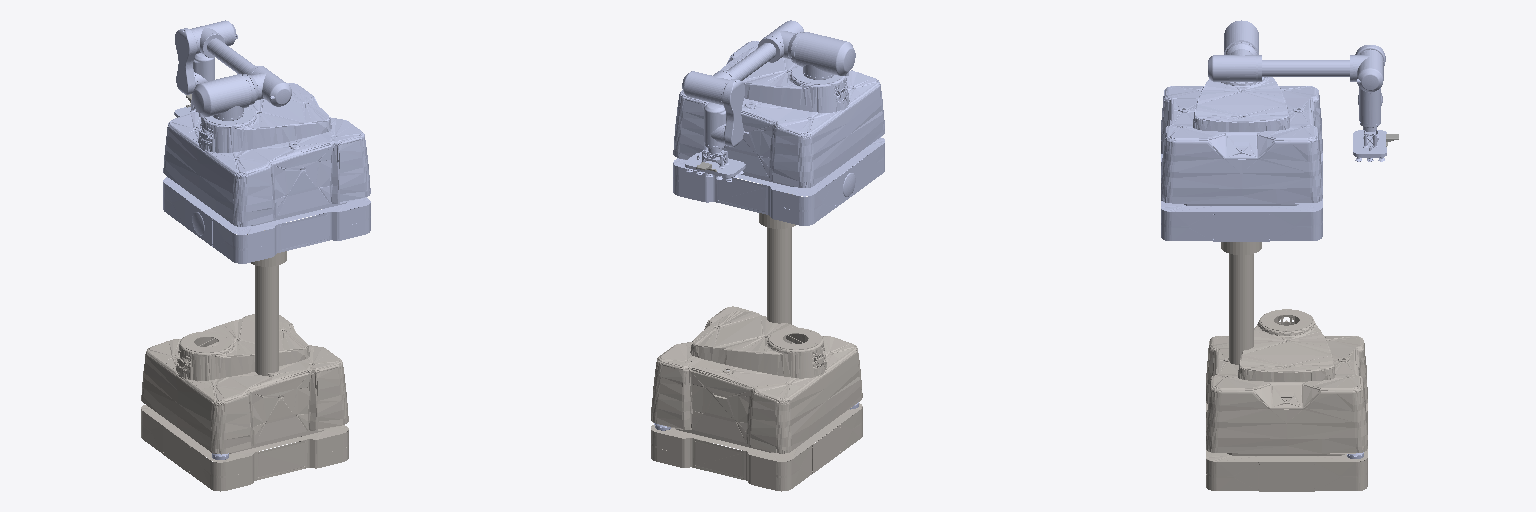
--- Facts derived from the render (not from the file) ---
The picture shows the robot from 3 angles, left to right: view 1: azimuth 30°, elevation 25°; view 2: azimuth 150°, elevation 25°; view 3: azimuth 270°, elevation 25°; orthographic projection.
Robot: awcombo — 26 links, 25 joints (14 revolute, 11 fixed); root link base_link; default pose: every joint at zero.
Links seen in each view (by area): view 1: awtube2_18kg_v2_base_link, base_link, agv_link1, awtube2_18kg_v2_link2, awtube2_18kg_v2_link4, awtube2_18kg_v2_link5, awtube2_18kg_v2_link3; view 2: base_link, awtube2_18kg_v2_base_link, agv_link1, awtube2_18kg_v2_link2, awtube2_18kg_v2_link4, awtube2_18kg_v2_link5, GRIPPER, awtube2_18kg_v2_link3; view 3: base_link, awtube2_18kg_v2_base_link, agv_link1, awtube2_18kg_v2_link4, awtube2_18kg_v2_link3, awtube2_18kg_v2_link5, GRIPPER, awtube2_18kg_v2_link2.
Link boxes in pixels (<box>): awtube2_18kg_v2_base_link: <box>163,83,370,263</box>; base_link: <box>141,314,348,491</box>; agv_link1: <box>247,230,286,375</box>; awtube2_18kg_v2_link2: <box>192,74,250,235</box>; awtube2_18kg_v2_link4: <box>190,20,263,74</box>; awtube2_18kg_v2_link5: <box>175,28,214,94</box>; awtube2_18kg_v2_link3: <box>241,67,291,107</box>; base_link: <box>651,306,862,491</box>; awtube2_18kg_v2_base_link: <box>673,41,884,225</box>; agv_link1: <box>759,184,795,343</box>; awtube2_18kg_v2_link2: <box>796,32,855,196</box>; awtube2_18kg_v2_link4: <box>682,37,781,105</box>; awtube2_18kg_v2_link5: <box>704,79,744,147</box>; GRIPPER: <box>685,148,745,181</box>; awtube2_18kg_v2_link3: <box>764,20,805,64</box>; base_link: <box>1206,309,1367,491</box>; awtube2_18kg_v2_base_link: <box>1161,77,1322,241</box>; agv_link1: <box>1221,242,1261,364</box>; awtube2_18kg_v2_link4: <box>1258,49,1383,91</box>; awtube2_18kg_v2_link3: <box>1208,40,1258,81</box>; awtube2_18kg_v2_link5: <box>1355,45,1385,124</box>; GRIPPER: <box>1353,130,1386,161</box>; awtube2_18kg_v2_link2: <box>1224,20,1258,91</box>.
Bounding box of the posed robot: 0.8607 × 1.25 × 2.37 m (x, y, z).
24 mesh visuals loaded from 25 distinct referenced files (23 binary STL); not drawn: 1 (reference not matched to a file when rendering).

robot.urdf — awcombo:
<?xml version="1.0"?>
<!-- =================================================================================== -->
<!-- |    This document was autogenerated by xacro from awcombo.xacro                  | -->
<!-- |    EDITING THIS FILE BY HAND IS NOT RECOMMENDED                                 | -->
<!-- =================================================================================== -->
<robot name="awcombo">
  <material name="aluminum">
    <color rgba="0.5 0.5 0.5 1" />
  </material>
  <material name="plastic">
    <color rgba="0.1 0.1 0.1 1" />
  </material>

  <gazebo reference="lidar_1_link">
    <sensor name="lidar_1_sensor" type="ray">
      <always_on>true</always_on>
      <pose>0 0 0 0 0 0</pose>
      <visualize>false</visualize>
      <update_rate>40</update_rate>
      <ray>
        <scan>
          <horizontal>
            <samples>720</samples>
            <resolution>1</resolution>
            <min_angle>-1.48</min_angle>
            <max_angle>1.48</max_angle>
          </horizontal>
        </scan>
        <range>
          <min>0.10</min>
          <max>30.0</max>
          <resolution>0.05</resolution>
        </range>
        <noise>
          <type>gaussian</type>
          <!-- Noise parameters based on published spec for Hokuyo laser
                   achieving "+-30mm" accuracy at range < 10m.  A mean of 0.0m and
                   stddev of 0.01m will put 99.7% of samples within 0.03m of the true
                   reading. -->
          <mean>0.0</mean>
          <stddev>0.01</stddev>
        </noise>
      </ray>
      <plugin filename="libgazebo_ros_ray_sensor.so" name="lidar_1">
        <ros>
          <!-- <namespace>   </namespace> -->
          <argument>~/out:=scan</argument>
        </ros>
        <!-- Set output to sensor_msgs/LaserScan to get same output type as gazebo_ros_laser -->
        <output_type>sensor_msgs/LaserScan</output_type>
        <frame_name>lidar_1_link</frame_name>
      </plugin>
    </sensor>
  </gazebo>

  <gazebo reference="lidar_2_link">
    <sensor name="lidar_2_sensor" type="ray">
      <pose>0 0 0 0 0 0</pose>
      <visualize>false</visualize>
      <update_rate>40</update_rate>
      <ray>
        <scan>
          <horizontal>
            <samples>720</samples>
            <resolution>1</resolution>
            <min_angle>-1.48</min_angle>
            <max_angle>1.48</max_angle>
          </horizontal>
        </scan>
        <range>
          <min>0.10</min>
          <max>30.0</max>
          <resolution>0.05</resolution>
        </range>
        <noise>
          <type>gaussian</type>
          <!-- Noise parameters based on published spec for Hokuyo laser
                   achieving "+-30mm" accuracy at range < 10m.  A mean of 0.0m and
                   stddev of 0.01m will put 99.7% of samples within 0.03m of the true
                   reading. -->
          <mean>0.0</mean>
          <stddev>0.01</stddev>
        </noise>
      </ray>
      <plugin filename="libgazebo_ros_ray_sensor.so" name="lidar_2">
        <ros>
          <!-- <namespace> </namespace> -->
          <argument>~/out:=scan2</argument>
        </ros>
        <!-- Set output to sensor_msgs/LaserScan to get same output type as gazebo_ros_laser -->
        <output_type>sensor_msgs/LaserScan</output_type>
        <frame_name>lidar_2_link</frame_name>
      </plugin>
    </sensor>
  </gazebo>

  <gazebo>
    <plugin name="object_controller" filename="libgazebo_ros_planar_move.so">

      <commandTopic>cmd_vel</commandTopic>
      <odometryTopic>odom</odometryTopic>
      <robotNamespace>
        <remapping>/tf:=tf</remapping>
      </robotNamespace>
      <ros>
        <remapping>/tf:=tf</remapping>
      </ros>

      <!-- Set control loop update rate -->
      <odometryRate>100</odometryRate>
      <!-- Set odom publish rate -->
      <publish_rate>100</publish_rate>

      <!-- Set if odom required -->
      <publish_odom>true</publish_odom>
      <publish_odom_tf>true</publish_odom_tf>

      <!-- Frame IDs -->
      <odometryFrame>odom</odometryFrame>
      <robotBaseFrame>base_link</robotBaseFrame>

      <!-- Set odom covariance -->
      <covariance_x>0.0001</covariance_x>
      <covariance_y>0.0001</covariance_y>
      <covariance_yaw>0.0001</covariance_yaw>

    </plugin>
  </gazebo>

  <!-- camera -->
  <gazebo reference="camera_link">

    <sensor type="depth" name="camera_link">

      <always_on>1</always_on>

      <update_rate>15</update_rate>

      <camera name="camera_link"> ... <distortion>
          <k1>0.1</k1>
          <k2>0.2</k2>
          <k3>0.3</k3>
          <p1>0.4</p1>
          <p2>0.5</p2>
          <center>0.5 0.5</center>
        </distortion>
      </camera>

      <plugin name="camera_link" filename="libgazebo_ros_camera.so">

        <ros>
        </ros>

        <camera_name> </camera_name>

        <frame_name> </frame_name>

        <hack_baseline>0.07</hack_baseline>


        <min_depth>0.001</min_depth>
        <max_depth>300.0</max_depth>
      </plugin>
    </sensor>
  </gazebo>

  <link name="base_link">
    <inertial>
      <origin rpy="0 0 0" xyz="0.00020197 0.0019401 0.43265" />
      <mass value="95.371" />
      <inertia ixx="7.048" ixy="0.0020566" ixz="-0.00016602" iyy="7.0414" iyz="-0.14914"
        izz="12.614" />
    </inertial>
    <visual>
      <origin rpy="0 0 0" xyz="0 0 0" />
      <geometry>
        <mesh
          filename="package://amr_combo_v2/meshes/base_link.STL" />
      </geometry>
      <material name="">
        <color rgba="0.77647 0.75686 0.73725 1" />
      </material>
    </visual>
    <collision>
      <origin rpy="0 0 0" xyz="0 0 0" />
      <geometry>
        <mesh
          filename="package://amr_combo_v2/meshes/base_link.STL" />
      </geometry>
    </collision>
  </link>
  <link name="base_footprint">
    <inertial>
      <origin rpy="0 0 0" xyz="-0.00097233 0.00030419 0.2973" />
      <mass value="27.996" />
      <inertia ixx="1.2308" ixy="-0.00018417" ixz="1.2244E-06" iyy="1.1622" iyz="9.0657E-07"
        izz="2.3922" />
    </inertial>
    <visual>
      <origin rpy="0 0 0" xyz="0 0 0" />
      <geometry>
        <mesh
          filename="package://amr_combo_v2/meshes/base_footprint.STL" />
      </geometry>
      <material name="">
        <color rgba="0.86667 0.86667 0.8902 1" />
      </material>
    </visual>
    <collision>
      <origin rpy="0 0 0" xyz="0 0 0" />
      <geometry>
        <mesh
          filename="package://amr_combo_v2/meshes/base_footprint.STL" />
      </geometry>
    </collision>
  </link>
  <joint name="base_footprint_joint" type="fixed">
    <origin rpy="0 0 0" xyz="0 0 0" />
    <parent link="base_link" />
    <child link="base_footprint" />
    <axis xyz="0 0 0" />
  </joint>
  <link name="mpo_700_caster_back_left_link">
    <inertial>
      <origin rpy="0 0 0" xyz="-5.5511E-17 0.0079242 -0.027057" />
      <mass value="17.529" />
      <inertia ixx="0.15365" ixy="4.3519E-19" ixz="2.079E-18" iyy="0.15493" iyz="0.010987"
        izz="0.025283" />
    </inertial>
    <visual>
      <origin rpy="0 0 0" xyz="0 0 0" />
      <geometry>
        <mesh
          filename="package://amr_combo_v2/meshes/mpo_700_caster_back_left_link.STL" />
      </geometry>
      <material name="">
        <color rgba="0.77647 0.75686 0.73725 1" />
      </material>
    </visual>
    <collision>
      <origin rpy="0 0 0" xyz="0 0 0" />
      <geometry>
        <mesh
          filename="package://amr_combo_v2/meshes/mpo_700_caster_back_left_link.STL" />
      </geometry>
    </collision>
  </link>
  <joint name="mpo_700_caster_back_left_joint" type="revolute">
    <origin rpy="0 0 0" xyz="-0.26 0.26 0.22" />
    <parent link="base_footprint" />
    <child link="mpo_700_caster_back_left_link" />
    <axis xyz="0 0 1" />
    <limit effort="1000" lower="-1E+16" upper="1E+16" velocity="6.5" />
    <dynamics damping="30" friction="110" />
  </joint>
  <link name="mpo_700_wheel_back_left_link">
    <inertial>
      <origin rpy="0 0 0" xyz="0 -0.0003764 0" />
      <mass value="5.9448" />
      <inertia ixx="0.012415" ixy="-1.6832E-19" ixz="-6.1901E-19" iyy="0.02381" iyz="-1.5948E-18"
        izz="0.012415" />
    </inertial>
    <visual>
      <origin rpy="0 0 0" xyz="0 0 0" />
      <geometry>
        <mesh
          filename="package://amr_combo_v2/meshes/mpo_700_wheel_back_left_link.STL" />
      </geometry>
      <material name="">
        <color rgba="0.77647 0.75686 0.73725 1" />
      </material>
    </visual>
    <collision>
      <origin rpy="0 0 0" xyz="0 0 0" />
      <geometry>
        <mesh
          filename="package://amr_combo_v2/meshes/mpo_700_wheel_back_left_link.STL" />
      </geometry>
    </collision>
  </link>
  <joint name="mpo_700_wheel_back_left_joint" type="revolute">
    <origin rpy="0 0 3.1416" xyz="0 -0.0453 -0.122" />
    <parent link="mpo_700_caster_back_left_link" />
    <child link="mpo_700_wheel_back_left_link" />
    <axis xyz="0 1 0" />
    <limit effort="1000" lower="-1E+16" upper="1E+16" velocity="20.5" />
    <dynamics damping="30" friction="110" />
  </joint>
  <link name="mpo_700_caster_back_right_link">
    <inertial>
      <origin rpy="0 0 0" xyz="0 0.0079242 -0.027057" />
      <mass value="17.529" />
      <inertia ixx="0.15365" ixy="6.5122E-20" ixz="1.2755E-18" iyy="0.15493" iyz="0.010987"
        izz="0.025283" />
    </inertial>
    <visual>
      <origin rpy="0 0 0" xyz="0 0 0" />
      <geometry>
        <mesh
          filename="package://amr_combo_v2/meshes/mpo_700_caster_back_right_link.STL" />
      </geometry>
      <material name="">
        <color rgba="0.77647 0.75686 0.73725 1" />
      </material>
    </visual>
    <collision>
      <origin rpy="0 0 0" xyz="0 0 0" />
      <geometry>
        <mesh
          filename="package://amr_combo_v2/meshes/mpo_700_caster_back_right_link.STL" />
      </geometry>
    </collision>
  </link>
  <joint name="mpo_700_caster_back_right_joint" type="revolute">
    <origin rpy="0 0 0" xyz="-0.26 -0.26 0.22" />
    <parent link="base_footprint" />
    <child link="mpo_700_caster_back_right_link" />
    <axis xyz="0 0 1" />
    <limit effort="1000" lower="-1E+16" upper="1E+16" velocity="6.5" />
    <dynamics damping="30" friction="110" />
  </joint>
  <link name="mpo_700_wheel_back_right_link">
    <inertial>
      <origin rpy="0 0 0" xyz="0 -0.0003764 -2.7756E-17" />
      <mass value="5.9448" />
      <inertia ixx="0.012415" ixy="-1.0996E-19" ixz="-6.1905E-19" iyy="0.02381" iyz="1.0833E-19"
        izz="0.012415" />
    </inertial>
    <visual>
      <origin rpy="0 0 0" xyz="0 0 0" />
      <geometry>
        <mesh
          filename="package://amr_combo_v2/meshes/mpo_700_wheel_back_right_link.STL" />
      </geometry>
      <material name="">
        <color rgba="0.77647 0.75686 0.73725 1" />
      </material>
    </visual>
    <collision>
      <origin rpy="0 0 0" xyz="0 0 0" />
      <geometry>
        <mesh
          filename="package://amr_combo_v2/meshes/mpo_700_wheel_back_right_link.STL" />
      </geometry>
    </collision>
  </link>
  <joint name="mpo_700_wheel_back_right_joint" type="revolute">
    <origin rpy="0 0 3.1416" xyz="0 -0.0453 -0.122" />
    <parent link="mpo_700_caster_back_right_link" />
    <child link="mpo_700_wheel_back_right_link" />
    <axis xyz="0 -1 0" />
    <limit effort="1000" lower="-1E+16" upper="1E+16" velocity="20.5" />
    <dynamics damping="30" friction="110" />
  </joint>
  <link name="mpo_700_caster_front_left_link">
    <inertial>
      <origin rpy="0 0 0" xyz="0 0.0079242 -0.027057" />
      <mass value="17.529" />
      <inertia ixx="0.15365" ixy="7.7938E-19" ixz="-1.1941E-18" iyy="0.15493" iyz="0.010987"
        izz="0.025283" />
    </inertial>
    <visual>
      <origin rpy="0 0 0" xyz="0 0 0" />
      <geometry>
        <mesh
          filename="package://amr_combo_v2/meshes/mpo_700_caster_front_left_link.STL" />
      </geometry>
      <material name="">
        <color rgba="0.77647 0.75686 0.73725 1" />
      </material>
    </visual>
    <collision>
      <origin rpy="0 0 0" xyz="0 0 0" />
      <geometry>
        <mesh
          filename="package://amr_combo_v2/meshes/mpo_700_caster_front_left_link.STL" />
      </geometry>
    </collision>
  </link>
  <joint name="mpo_700_caster_front_left_joint" type="revolute">
    <origin rpy="0 0 0" xyz="0.26 0.26 0.22" />
    <parent link="base_footprint" />
    <child link="mpo_700_caster_front_left_link" />
    <axis xyz="0 0 1" />
    <limit effort="1000" lower="-1E+16" upper="1E+16" velocity="6.5" />
    <dynamics damping="30" friction="110" />
  </joint>
  <link name="mpo_700_wheel_front_left_link">
    <inertial>
      <origin rpy="0 0 0" xyz="0 -0.0003764 1.3878E-17" />
      <mass value="5.9448" />
      <inertia ixx="0.012415" ixy="-3.9576E-19" ixz="-2.0189E-19" iyy="0.02381" iyz="-1.7678E-18"
        izz="0.012415" />
    </inertial>
    <visual>
      <origin rpy="0 0 0" xyz="0 0 0" />
      <geometry>
        <mesh
          filename="package://amr_combo_v2/meshes/mpo_700_wheel_front_left_link.STL" />
      </geometry>
      <material name="">
        <color rgba="0.77647 0.75686 0.73725 1" />
      </material>
    </visual>
    <collision>
      <origin rpy="0 0 0" xyz="0 0 0" />
      <geometry>
        <mesh
          filename="package://amr_combo_v2/meshes/mpo_700_wheel_front_left_link.STL" />
      </geometry>
    </collision>
  </link>
  <joint name="mpo_700_wheel_front_left_joint" type="revolute">
    <origin rpy="0 0 3.1416" xyz="0 -0.0453 -0.122" />
    <parent link="mpo_700_caster_front_left_link" />
    <child link="mpo_700_wheel_front_left_link" />
    <axis xyz="0 1 0" />
    <limit effort="10000" lower="-1E+16" upper="1E+16" velocity="20.5" />
    <dynamics damping="30" friction="110" />
  </joint>
  <link name="mpo_700_caster_front_right_link">
    <inertial>
      <origin rpy="0 0 0" xyz="0 0.0079242 -0.027057" />
      <mass value="17.529" />
      <inertia ixx="0.15365" ixy="4.224E-19" ixz="-7.1236E-19" iyy="0.15493" iyz="0.010987"
        izz="0.025283" />
    </inertial>
    <visual>
      <origin rpy="0 0 0" xyz="0 0 0" />
      <geometry>
        <mesh
          filename="package://amr_combo_v2/meshes/mpo_700_caster_front_right_link.STL" />
      </geometry>
      <material name="">
        <color rgba="0.77647 0.75686 0.73725 1" />
      </material>
    </visual>
    <collision>
      <origin rpy="0 0 0" xyz="0 0 0" />
      <geometry>
        <mesh
          filename="package://amr_combo_v2/meshes/mpo_700_caster_front_right_link.STL" />
      </geometry>
    </collision>
  </link>
  <joint name="mpo_700_caster_front_right_joint" type="revolute">
    <origin rpy="0 0 0" xyz="0.26 -0.26 0.22" />
    <parent link="base_footprint" />
    <child link="mpo_700_caster_front_right_link" />
    <axis xyz="0 0 1" />
    <limit effort="1000" lower="-1E+16" upper="1E+16" velocity="6.5" />
    <dynamics damping="30" friction="110" />
  </joint>
  <link name="mpo_700_wheel_front_right_link">
    <inertial>
      <origin rpy="0 0 0" xyz="0 -0.0003764 -2.7756E-17" />
      <mass value="5.9448" />
      <inertia ixx="0.012415" ixy="-1.2506E-19" ixz="-2.0193E-19" iyy="0.02381" iyz="-6.4764E-20"
        izz="0.012415" />
    </inertial>
    <visual>
      <origin rpy="0 0 0" xyz="0 0 0" />
      <geometry>
        <mesh
          filename="package://amr_combo_v2/meshes/mpo_700_wheel_front_right_link.STL" />
      </geometry>
      <material name="">
        <color rgba="0.77647 0.75686 0.73725 1" />
      </material>
    </visual>
    <collision>
      <origin rpy="0 0 0" xyz="0 0 0" />
      <geometry>
        <mesh
          filename="package://amr_combo_v2/meshes/mpo_700_wheel_front_right_link.STL" />
      </geometry>
    </collision>
  </link>
  <joint name="mpo_700_wheel_front_right_joint" type="revolute">
    <origin rpy="0 0 -3.1416" xyz="0 -0.0453 -0.122" />
    <parent link="mpo_700_caster_front_right_link" />
    <child link="mpo_700_wheel_front_right_link" />
    <axis xyz="0 -1 0" />
    <limit effort="1000" lower="-1E+16" upper="1E+16" velocity="20.5" />
    <dynamics damping="30" friction="110" />
  </joint>
  <link name="lidar_1_link">
    <inertial>
      <origin rpy="0 0 0" xyz="-1.0182 1.7996E-06 0.01114" />
      <mass value="0.28899" />
      <inertia ixx="0.00020547" ixy="-1.0914E-08" ixz="1.1185E-08" iyy="0.00020546" iyz="1.6374E-08"
        izz="0.0002783" />
    </inertial>
    <visual>
      <origin rpy="0 0 0" xyz="0 0 0" />
      <geometry>
        <mesh
          filename="package://amr_combo_v2/meshes/lidar_1_link.STL" />
      </geometry>
      <material name="">
        <color rgba="0.79216 0.81961 0.93333 1" />
      </material>
    </visual>
    <collision>
      <origin rpy="0 0 0" xyz="0 0 0" />
      <geometry>
        <mesh
          filename="package://amr_combo_v2/meshes/lidar_1_link.STL" />
      </geometry>
    </collision>
  </link>
  <joint name="lidar_1_link" type="fixed">
    <origin rpy="3.1416 0 -2.3562" xyz="-0.36 -0.36 0.2465" />
    <parent link="base_link" />
    <child link="lidar_1_link" />
    <axis xyz="0 0 0" />
  </joint>
  <link name="lidar_2_link">
    <inertial>
      <origin rpy="0 0 0" xyz="-1.0182 -1.6443E-06 0.01114" />
      <mass value="0.28899" />
      <inertia ixx="0.00020547" ixy="-1.1651E-08" ixz="-1.3037E-08" iyy="0.00020547"
        iyz="-1.4942E-08" izz="0.0002783" />
    </inertial>
    <visual>
      <origin rpy="0 0 0" xyz="0 0 0" />
      <geometry>
        <mesh
          filename="package://amr_combo_v2/meshes/lidar_2_link.STL" />
      </geometry>
      <material name="">
        <color rgba="0.79216 0.81961 0.93333 1" />
      </material>
    </visual>
    <collision>
      <origin rpy="0 0 0" xyz="0 0 0" />
      <geometry>
        <mesh
          filename="package://amr_combo_v2/meshes/lidar_2_link.STL" />
      </geometry>
    </collision>
  </link>
  <joint name="lidar_2_link" type="fixed">
    <origin rpy="3.1416 0 0.7854" xyz="0.36 0.36 0.2465" />
    <parent link="base_link" />
    <child link="lidar_2_link" />
    <axis xyz="0 0 0" />
  </joint>
  <link name="agv_link1">
    <inertial>
      <origin rpy="0 0 0" xyz="-1.0093E-18 0 -0.43855" />
      <mass value="150.55" />
      <inertia ixx="17.026" ixy="-1.9211E-17" ixz="4.6799E-16" iyy="17.026" iyz="5.5226E-17"
        izz="0.54086" />
    </inertial>
    <visual>
      <origin rpy="0 0 0" xyz="0 0 0" />
      <geometry>
        <mesh
          filename="package://amr_combo_v2/meshes/agv_link1.STL" />
      </geometry>
      <material name="">
        <color rgba="0.77647 0.75686 0.73725 1" />
      </material>
    </visual>
    <collision>
      <origin rpy="0 0 0" xyz="0 0 0" />
      <geometry>
        <mesh
          filename="package://amr_combo_v2/meshes/agv_link1.STL" />
      </geometry>
    </collision>
  </link>
  <joint name="agv_link1" type="fixed">
    <origin rpy="0 0 0" xyz="0 -0.237 1.446" />
    <parent link="base_link" />
    <child link="agv_link1" />
    <axis xyz="0 0 0" />
  </joint>
  <joint name="awtube2_18kg_v2_base_joint" type="fixed">
    <parent link="agv_link1" />
    <child link="awtube2_18kg_v2_base_link" />
    <origin rpy="0 0 0" xyz="0 0 0" />
  </joint>
  <link name="awtube2_18kg_v2_base_link">
    <inertial>
      <origin rpy="0 0 0" xyz="3.1408E-18 2.3265E-19 0.011306" />
      <mass value="0.71698" />
      <inertia ixx="0.0026347" ixy="-3.4047E-19" ixz="3.6583E-20" iyy="0.0026347" iyz="3.3614E-20"
        izz="0.0051879" />
    </inertial>
    <visual>
      <origin rpy="0 0 0" xyz="0 0 0" />
      <geometry>
        <mesh
          filename="package://awtube2_18kg_v2/meshes/base_link.STL" />
      </geometry>
      <material name="">
        <color rgba="0.79216 0.81961 0.93333 1" />
      </material>
    </visual>
    <collision>
      <origin rpy="0 0 0" xyz="0 0 0" />
      <geometry>
        <mesh
          filename="package://awtube2_18kg_v2/meshes/controllo/base_link.STL" />
      </geometry>
    </collision>
  </link>
  <link name="awtube2_18kg_v2_link1">
    <inertial>
      <origin rpy="0 0 0" xyz="-5.6964E-08 0.0052032 0.13467" />
      <mass value="7.4558" />
      <inertia ixx="0.059839" ixy="-9.5174E-08" ixz="1.4852E-07" iyy="0.057912" iyz="0.0017444"
        izz="0.034054" />
    </inertial>
    <visual>
      <origin rpy="0 0 0" xyz="0 0 0" />
      <geometry>
        <mesh
          filename="package://awtube2_18kg_v2/meshes/link1.STL" />
      </geometry>
      <material name="">
        <color rgba="0.79216 0.81961 0.93333 1" />
      </material>
    </visual>
    <collision>
      <origin rpy="0 0 0" xyz="0 0 0" />
      <geometry>
        <mesh
          filename="package://awtube2_18kg_v2/meshes/controllo/link1.STL" />
      </geometry>
    </collision>
  </link>
  <joint name="awtube2_18kg_v2_joint1" type="revolute">
    <origin rpy="0 0 1.5707963267948966" xyz="0 0 0.025" />
    <parent link="awtube2_18kg_v2_base_link" />
    <child link="awtube2_18kg_v2_link1" />
    <axis xyz="0 0 -1" />
    <limit effort="600" lower="-3.14" upper="3.14" velocity="1.2436" />
    <dynamics damping="1" friction="0.1" />
  </joint>
  <link name="awtube2_18kg_v2_link2">
    <inertial>
      <origin rpy="0 0 0" xyz="3.0744E-16 0.34153 0.17206" />
      <mass value="16.867" />
      <inertia ixx="0.13028" ixy="-1.9035E-07" ixz="-2.5941E-17" iyy="0.12157" iyz="-5.8547E-18"
        izz="0.080528" />
    </inertial>
    <visual>
      <origin rpy="0 0 0" xyz="0 0 0" />
      <geometry>
        <mesh
          filename="package://awtube2_18kg_v2/meshes/link2.STL" />
      </geometry>
      <material name="">
        <color rgba="0.79216 0.81961 0.93333 1" />
      </material>
    </visual>
    <collision>
      <origin rpy="0 0 0" xyz="0 0 0" />
      <geometry>
        <mesh
          filename="package://awtube2_18kg_v2/meshes/controllo/link2.STL" />
      </geometry>
    </collision>
  </link>
  <joint name="awtube2_18kg_v2_joint2" type="revolute">
    <origin rpy="1.5708 0 3.1416" xyz="0 0.1045 0.09" />
    <parent link="awtube2_18kg_v2_link1" />
    <child link="awtube2_18kg_v2_link2" />
    <axis xyz="0 0 -1" />
    <limit effort="650" lower="-3.14" upper="3.14" velocity="0.86" />
    <dynamics damping="1" friction="0.100" />
  </joint>
  <link name="awtube2_18kg_v2_link3">
    <inertial>
      <origin rpy="0 0 0" xyz="1.0739E-07 -0.031501 0.12478" />
      <mass value="5.2778" />
      <inertia ixx="0.027836" ixy="-2.6227E-09" ixz="2.1362E-09" iyy="0.014296" iyz="0.0014164"
        izz="0.0285" />
    </inertial>
    <visual>
      <origin rpy="0 0 0" xyz="0 0 0" />
      <geometry>
        <mesh
          filename="package://awtube2_18kg_v2/meshes/link3.STL" />
      </geometry>
      <material name="">
        <color rgba="0.79216 0.81961 0.93333 1" />
      </material>
    </visual>
    <collision>
      <origin rpy="0 0 0" xyz="0 0 0" />
      <geometry>
        <mesh
          filename="package://awtube2_18kg_v2/meshes/controllo/link3.STL" />
      </geometry>
    </collision>
  </link>
  <joint name="awtube2_18kg_v2_joint3" type="revolute">
    <origin rpy="3.1416 0 -1.5707963267948966" xyz="0 0.725 0.0495" />
    <parent link="awtube2_18kg_v2_link2" />
    <child link="awtube2_18kg_v2_link3" />
    <axis xyz="0 0 -1" />
    <limit effort="350" lower="-3.14" upper="3.14" velocity="1.24" />
    <dynamics damping="1" friction="0.1" />
  </joint>
  <link name="awtube2_18kg_v2_link4">
    <inertial>
      <origin rpy="0 0 0" xyz="1.1453E-07 -0.033596 0.53855" />
      <mass value="4.9487" />
      <inertia ixx="0.03104" ixy="-2.6227E-09" ixz="2.1362E-09" iyy="0.0175" iyz="0.0014164"
        izz="0.026027" />
    </inertial>
    <visual>
      <origin rpy="0 0 0" xyz="0 0 0" />
      <geometry>
        <mesh
          filename="package://awtube2_18kg_v2/meshes/link4.STL" />
      </geometry>
      <material name="">
        <color rgba="0.79216 0.81961 0.93333 1" />
      </material>
    </visual>
    <collision>
      <origin rpy="0 0 0" xyz="0 0 0" />
      <geometry>
        <mesh
          filename="package://awtube2_18kg_v2/meshes/controllo/link4.STL" />
      </geometry>
    </collision>
  </link>
  <joint name="awtube2_18kg_v2_joint4" type="revolute">
    <origin rpy="-1.5708 0 0" xyz="0 0.0874 0.154" />
    <parent link="awtube2_18kg_v2_link3" />
    <child link="awtube2_18kg_v2_link4" />
    <axis xyz="0 0 -1" />
    <limit effort="145" lower="-3.14" upper="3.14" velocity="2.71" />
    <dynamics damping="1" friction="0.1" />
  </joint>
  <link name="awtube2_18kg_v2_link5">
    <inertial>
      <origin rpy="0 0 0" xyz="4.1585E-08 -0.17645 -0.055943" />
      <mass value="3.3765" />
      <inertia ixx="0.016413" ixy="-2.9318E-08" ixz="-3.1693E-09" iyy="0.0061497" iyz="2.9588E-05"
        izz="0.017107" />
    </inertial>
    <visual>
      <origin rpy="0 0 0" xyz="0 0 0" />
      <geometry>
        <mesh
          filename="package://awtube2_18kg_v2/meshes/link5.STL" />
      </geometry>
      <material name="">
        <color rgba="0.79216 0.81961 0.93333 1" />
      </material>
    </visual>
    <collision>
      <origin rpy="0 0 0" xyz="0 0 0" />
      <geometry>
        <mesh
          filename="package://awtube2_18kg_v2/meshes/controllo/link5.STL" />
      </geometry>
    </collision>
  </link>
  <joint name="awtube2_18kg_v2_joint5" type="revolute">
    <origin rpy="-1.5708 1.5707963267948966 0" xyz="0 0.0924 0.5876" />
    <parent link="awtube2_18kg_v2_link4" />
    <child link="awtube2_18kg_v2_link5" />
    <axis xyz="0 0 -1" />
    <limit effort="145" lower="-1.6" upper="1.6" velocity="2.71" />
    <dynamics damping="1" friction="0.1" />
  </joint>
  <link name="awtube2_18kg_v2_link6">
    <inertial>
      <origin rpy="0 0 0" xyz="1.721E-16 -1.7268E-16 0.027662" />
      <mass value="0.382" />
      <inertia ixx="0.0003488" ixy="9.2314E-20" ixz="4.3131E-20" iyy="0.0003488" iyz="-7.1296E-20"
        izz="0.00054908" />
    </inertial>
    <visual>
      <origin rpy="0 0 0" xyz="0 0 0" />
      <geometry>
        <mesh
          filename="package://awtube2_18kg_v2/meshes/link6.STL" />
      </geometry>
      <material name="">
        <color rgba="0.79216 0.81961 0.93333 1" />
      </material>
    </visual>
    <collision>
      <origin rpy="0 0 0" xyz="0 0 0" />
      <geometry>
        <mesh
          filename="package://awtube2_18kg_v2/meshes/controllo/link6.STL" />
      </geometry>
    </collision>
  </link>
  <joint name="awtube2_18kg_v2_joint6" type="revolute">
    <origin rpy="1.5708 0 0" xyz="0 -0.2975 -0.0924" />
    <parent link="awtube2_18kg_v2_link5" />
    <child link="awtube2_18kg_v2_link6" />
    <axis xyz="0 0 -1" />
    <limit effort="85" lower="-3.14" upper="3.14" velocity="3.61" />
    <dynamics damping="1" friction="0.1" />
  </joint>
  <joint name="grip_exon_base_joint" type="fixed">
    <parent link="awtube2_18kg_v2_link6" />
    <child link="RIF" />
    <origin rpy="0 0 -1.57" xyz="0 0 0.057" />
  </joint>
  <link name="RIF">
    <inertial>
      <origin rpy="0 0 0" xyz="0.00021269 2.1562E-14 0.0025" />
      <mass value="0.02908" />
      <inertia ixx="8.9458E-06" ixy="1.4285E-18" ixz="-4.9596E-21" iyy="2.8336E-05" iyz="1.2484E-18"
        izz="3.7163E-05" />
    </inertial>
    <visual>
      <origin rpy="0 0 0" xyz="0 0 0" />
      <geometry>
        <mesh
          filename="package://grip_exon/meshes/RIF.STL" />
      </geometry>
      <material name="">
        <color rgba="0.79216 0.81961 0.93333 1" />
      </material>
    </visual>
    <collision>
      <origin rpy="0 0 0" xyz="0 0 0" />
      <geometry>
        <mesh
          filename="package://grip_exon/meshes/RIF.STL" />
      </geometry>
    </collision>
  </link>
  <link name="GRIPPER">
    <inertial>
      <origin rpy="0 0 0" xyz="0.00070773 -0.00049669 -0.043144" />
      <mass value="0.69541" />
      <inertia ixx="0.001292" ixy="-3.4933E-08" ixz="-1.1642E-07" iyy="0.0030317" iyz="1.7201E-06"
        izz="0.0041665" />
    </inertial>
    <visual>
      <origin rpy="0 0 0" xyz="0 0 0" />
      <geometry>
        <mesh
          filename="package://grip_exon/meshes/GRIPPER.STL" />
      </geometry>
      <material name="">
        <color rgba="0.79216 0.81961 0.93333 1" />
      </material>
    </visual>
    <collision>
      <origin rpy="0 0 0" xyz="0 0 0" />
      <geometry>
        <mesh
          filename="package://grip_exon/meshes/GRIPPER.STL" />
      </geometry>
    </collision>
  </link>
  <joint name="GRIPPER" type="fixed">
    <origin rpy="0 0 0" xyz="0 0 0.1211" />
    <parent link="RIF" />
    <child link="GRIPPER" />
    <axis xyz="0 0 0" />
  </joint>
  <joint name="supporto_cam_base_joint" type="fixed">
    <parent link="GRIPPER" />
    <child link="base" />
    <origin rpy="3.14 0 1.57" xyz="0 -0.08 -0.048" />
  </joint>
  <link name="base">
    <inertial>
      <origin rpy="0 0 0" xyz="-0.024968 -1.2433E-07 0.023136" />
      <mass value="0.080064" />
      <inertia ixx="3.9197E-05" ixy="1.1651E-10" ixz="9.4191E-06" iyy="4.1104E-05" iyz="-1.2673E-10"
        izz="6.4713E-05" />
    </inertial>
    <visual>
      <origin rpy="0 0 0" xyz="0 0 0" />
      <geometry>
        <mesh
          filename="package://camera_support/meshes/base.STL" />
      </geometry>
      <material name="">
        <color rgba="0.69804 0.69804 0.69804 1" />
      </material>
    </visual>
    <collision>
      <origin rpy="0 0 0" xyz="0 0 0" />
      <geometry>
        <mesh
          filename="package://camera_support/meshes/base.STL" />
      </geometry>
    </collision>
  </link>
  <link name="cam">
    <inertial>
      <origin rpy="0 0 0" xyz="-5E-05 -4.3708E-19 0" />
      <mass value="1E-07" />
      <inertia ixx="1.6667E-14" ixy="-4.7178E-34" ixz="-5.2119E-32" iyy="8.4167E-15"
        iyz="-1.5126E-30" izz="8.4167E-15" />
    </inertial>
    <visual>
      <origin rpy="0 0 0" xyz="0 0 0" />
      <geometry>
        <mesh
          filename="package://camera_support/meshes/cam.STL" />
      </geometry>
      <material name="">
        <color rgba="0.79216 0.81961 0.93333 1" />
      </material>
    </visual>
    <collision>
      <origin rpy="0 0 0" xyz="0 0 0" />
      <geometry>
        <mesh
          filename="package://camera_support/meshes/cam.STL" />
      </geometry>
    </collision>
  </link>
  <joint name="cam" type="fixed">
    <origin rpy="0 1.5708 0" xyz="-0.0645 0 0.0259" />
    <parent link="base" />
    <child link="cam" />
    <axis xyz="0 0 0" />
  </joint>
  <!-- camera body, with origin at bottom screw mount -->
  <joint name="camera_joint" type="fixed">
    <origin rpy="3.14 0 0" xyz="0.01 0 0.0125" />
    <parent link="cam" />
    <child link="camera_bottom_screw_frame" />
  </joint>
  <link name="camera_bottom_screw_frame" />
  <joint name="camera_link_joint" type="fixed">
    <origin rpy="0 0 0" xyz="0.010600000000000002 0.0175 0.0125" />
    <parent link="camera_bottom_screw_frame" />
    <child link="camera_link" />
  </joint>
  <link name="camera_link">
    <visual>
      <!-- the mesh origin is at front plate in between the two infrared camera axes -->
      <origin rpy="1.5707963267948966 0 1.5707963267948966" xyz="0.0043 -0.0175 0" />
      <geometry>
        <mesh
          filename="package://realsense_description/meshes/d435.dae" />
      </geometry>
    </visual>
    <collision>
      <origin rpy="0 0 0" xyz="0 -0.0175 0" />
      <geometry>
        <box size="0.02505 0.09 0.025" />
      </geometry>
    </collision>
    <inertial>
      <!-- The following are not reliable values, and should not be used for modeling -->
      <mass value="0.072" />
      <origin xyz="0 0 0" />
      <inertia ixx="0.003881243" ixy="0.0" ixz="0.0" iyy="0.000498940" iyz="0.0" izz="0.003879257" />
    </inertial>
  </link>

  <ros2_control name="awtube" type="system">
    <hardware>
      <plugin>gazebo_ros2_control/GazeboSystem</plugin>
      <!-- <plugin>fake_components/GenericSystem</plugin> -->
      <param name="interface_name">eno1</param>
      <param name="cpu_id">0</param>
      <param name="control_frequency">100</param>
    </hardware>
    <!-- GPIO -->
    <!-- <gpio name="Beckhoff">
      <command_interface name="dig_output.1" />
      <command_interface name="dig_output.2" />
      <command_interface name="dig_output.3" />
      <command_interface name="dig_output.4" />
      <command_interface name="dig_output.5" />
      <command_interface name="dig_output.6" />
      <command_interface name="dig_output.7" />
      <command_interface name="dig_output.8" />
      <state_interface name="dig_output.1" />
      <state_interface name="dig_output.2" />
      <state_interface name="dig_output.3" />
      <state_interface name="dig_output.4" />
      <state_interface name="dig_output.5" />
      <state_interface name="dig_output.6" />
      <state_interface name="dig_output.7" />
      <state_interface name="dig_output.8" />
      <state_interface name="dig_input.1" />
      <state_interface name="dig_input.2" />
      <state_interface name="dig_input.3" />
      <state_interface name="dig_input.4" />
      <state_interface name="dig_input.5" />
      <state_interface name="dig_input.6" />
      <state_interface name="dig_input.7" />
      <state_interface name="dig_input.8" />
      <ec_module name="EK1100">
        <plugin>ethercat/BeckhoffEK1100</plugin>
        <param name="client_id">1</param>
      </ec_module>
      <ec_module name="EL1808">
        <plugin>ethercat/BeckhoffEL1808</plugin>
        <param name="client_id">2</param>
        <param name="di.1">dig_input.1</param>
        <param name="di.2">dig_input.2</param>
        <param name="di.3">dig_input.3</param>
        <param name="di.4">dig_input.4</param>
        <param name="di.5">dig_input.5</param>
        <param name="di.6">dig_input.6</param>
        <param name="di.7">dig_input.7</param>
        <param name="di.8">dig_input.8</param>
      </ec_module>
      <ec_module name="EL2808">
        <plugin>ethercat/BeckhoffEL2808</plugin>
        <param name="client_id">3</param>
        <param name="do.1">dig_output.1</param>
        <param name="do.2">dig_output.2</param>
        <param name="do.3">dig_output.3</param>
        <param name="do.4">dig_output.4</param>
        <param name="do.5">dig_output.5</param>
        <param name="do.6">dig_output.6</param>
        <param name="do.7">dig_output.7</param>
        <param name="do.8">dig_output.8</param>
      </ec_module>
    </gpio> -->
    <!-- Joints -->
    <joint name="awtube2_18kg_v2_joint1">
      <command_interface name="position" />
      <!-- <command_interface name="velocity" />
      <command_interface name="effort" /> -->
      <state_interface name="position" />
      <!-- <state_interface name="velocity" />
      <state_interface name="effort" /> -->
      <!-- <ec_module name="AWJointClient">
        <plugin>ethercat/AWJointClient</plugin>
        <param name="client_id">4</param>
        <param name="mode_of_operation">CSP</param>
      </ec_module> -->
    </joint>
    <joint name="awtube2_18kg_v2_joint2">
      <command_interface name="position" />
      <!-- <command_interface name="velocity" />
      <command_interface name="effort" /> -->
      <state_interface name="position" />
      <!-- <state_interface name="velocity" />
      <state_interface name="effort" /> -->
      <!-- <ec_module name="AWJointClient">
        <plugin>ethercat/AWJointClient</plugin>
        <param name="client_id">5</param>
        <param name="mode_of_operation">CSP</param>
      </ec_module> -->
    </joint>
    <joint name="awtube2_18kg_v2_joint3">
      <command_interface name="position" />
      <!-- <command_interface name="velocity" />
      <command_interface name="effort" /> -->
      <state_interface name="position" />
      <!-- <state_interface name="velocity" />
      <state_interface name="effort" /> -->
      <!-- <ec_module name="AWJointClient">
        <plugin>ethercat/AWJointClient</plugin>
        <param name="client_id">6</param>
        <param name="mode_of_operation">CSP</param>
      </ec_module> -->
    </joint>
    <joint name="awtube2_18kg_v2_joint4">
      <command_interface name="position" />
      <!-- <command_interface name="velocity" />
      <command_interface name="effort" /> -->
      <state_interface name="position" />
      <!-- <state_interface name="velocity" />
      <state_interface name="effort" /> -->
      <!-- <ec_module name="AWJointClient">
        <plugin>ethercat/AWJointClient</plugin>
        <param name="client_id">7</param>
        <param name="mode_of_operation">CSP</param>
      </ec_module> -->
    </joint>
    <joint name="awtube2_18kg_v2_joint5">
      <command_interface name="position" />
      <!-- <command_interface name="velocity" />
      <command_interface name="effort" /> -->
      <state_interface name="position" />
      <!-- <state_interface name="velocity" />
      <state_interface name="effort" /> -->
      <!-- <ec_module name="AWJointClient">
        <plugin>ethercat/AWJointClient</plugin>
        <param name="client_id">8</param>
        <param name="mode_of_operation">CSP</param>
      </ec_module> -->
    </joint>
    <joint name="awtube2_18kg_v2_joint6">
      <command_interface name="position" />
      <!-- <command_interface name="velocity" />
      <command_interface name="effort" /> -->
      <state_interface name="position" />
      <!-- <state_interface name="velocity" />
      <state_interface name="effort" /> -->
      <!-- <ec_module name="AWJointClient">
        <plugin>ethercat/AWJointClient</plugin>
        <param name="client_id">9</param>
        <param name="mode_of_operation">CSP</param>
      </ec_module> -->
    </joint>

    <!-- <transmission name="tran1">
      <plugin>transmission_interface/SimpleTransmission</plugin>
      <joint name="awtube2_18kg_v2_joint1" role="awtube2_18kg_v2_joint1">
        <hardwareInterface>JointStateInterface</hardwareInterface>
      </joint>
      <actuator name="motor1" role="motor1">
        <hardwareInterface>JointStateInterface</hardwareInterface>
        <mechanicalReduction>1</mechanicalReduction>
      </actuator>
    </transmission>

    <transmission name="tran2">
      <plugin>transmission_interface/SimpleTransmission</plugin>
      <joint name="awtube2_18kg_v2_joint2" role="awtube2_18kg_v2_joint2">
        <hardwareInterface>JointStateInterface</hardwareInterface>
      </joint>
      <actuator name="motor2" role="motor2">
        <hardwareInterface>JointStateInterface</hardwareInterface>
        <mechanicalReduction>1</mechanicalReduction>
      </actuator>
    </transmission>  -->

    <!--  <transmission name="tran3">
      <plugin>transmission_interface/SimpleTransmission</plugin>
      <joint name="awtube2_18kg_v2_joint3" role="awtube2_18kg_v2_joint3">
        <hardwareInterface>JointStateInterface</hardwareInterface>
      </joint>
      <actuator name="motor3" role="motor3">
        <hardwareInterface>JointStateInterface</hardwareInterface>
        <mechanicalReduction>1</mechanicalReduction>
      </actuator>
    </transmission>

    <transmission name="tran4">
      <plugin>transmission_interface/SimpleTransmission</plugin>
      <joint name="awtube2_18kg_v2_joint4" role="awtube2_18kg_v2_joint4">
        <hardwareInterface>JointStateInterface</hardwareInterface>
      </joint>
      <actuator name="motor4" role="motor4">
        <hardwareInterface>JointStateInterface</hardwareInterface>
        <mechanicalReduction>1</mechanicalReduction>
      </actuator>
    </transmission>

    <transmission name="tran5">
      <plugin>transmission_interface/SimpleTransmission</plugin>
      <joint name="awtube2_18kg_v2_joint5" role="awtube2_18kg_v2_joint5">
        <hardwareInterface>JointStateInterface</hardwareInterface>
      </joint>
      <actuator name="motor5" role="motor5">
        <hardwareInterface>JointStateInterface</hardwareInterface>
        <mechanicalReduction>1</mechanicalReduction>
      </actuator>
    </transmission>

    <transmission name="tran6">
      <plugin>transmission_interface/SimpleTransmission</plugin>
      <joint name="awtube2_18kg_v2_joint6" role="awtube2_18kg_v2_joint6">
        <hardwareInterface>JointStateInterface</hardwareInterface>
      </joint>
      <actuator name="motor6" role="motor6">
        <hardwareInterface>JointStateInterface</hardwareInterface>
        <mechanicalReduction>1</mechanicalReduction>
      </actuator>
     </transmission> -->

  </ros2_control>

  <gazebo reference="mpo_700_wheel_front_right_link">
    <!-- <kp> 10000 </kp> -->
    <!-- <fdir1>0 1 0</fdir1> -->
    <!-- <slip1> 0.1 </slip1> -->
    <mu1>0.0001</mu1>
    <mu2>0.0001</mu2>
  </gazebo>

  <gazebo reference="mpo_700_wheel_back_right_link">
    <!-- <kp> 10000 </kp> -->
    <!-- <fdir1>0 1 0</fdir1> -->
    <!-- <slip1> 0.1 </slip1> -->
    <mu1>0.0001</mu1>
    <mu2>0.0001</mu2>
  </gazebo>

  <gazebo reference="mpo_700_wheel_front_left_link">
    <!-- <kp> 10000 </kp> -->
    <!-- <fdir1>0 1 0</fdir1> -->
    <!-- <slip1> 0.1 </slip1> -->
    <mu1>0.0001</mu1>
    <mu2>0.0001</mu2>
  </gazebo>

  <gazebo reference="mpo_700_wheel_back_left_link">
    <!-- <kp> 10000 </kp> -->
    <!-- <fdir1>0 1 0</fdir1> -->
    <!-- <slip1> 0.1 </slip1> -->
    <mu1>0.0001</mu1>
    <mu2>0.0001</mu2>
  </gazebo>

  <gazebo>
    <plugin name="gazebo_ros2_control" filename="libgazebo_ros2_control.so">
      <!-- <robotNamespace>/</robotNamespace> -->
      <!-- ROS 2 Control Parameters -->
      <!-- <controlPeriod>0.01</controlPeriod> -->
      <!--
      <parameters>filename="package:=//neo_simulation2/robots/mpo_700/meshes/awcombo.ros2_controllers.yaml"</parameters> -->
      <!-- <parameters>$(find
      neo_simulation2)/robots/mpo_700/meshes/awcombo.ros2_controllers.yaml</parameters> -->
      <!-- <parameters>robots/mpo_700/meshes/awcombo.ros2_controllers.yaml</parameters> -->
      <!--
      [local-path]/awCombo_simulation/install/neo_simulation2/share/neo_simulation2/robots/mpo_700/meshes/descriptions/awcombo_description -->
      <!--
      <parameters>/neo_simulation2/share/neo_simulation2/configs/mpo_700/awcombo.ros2_controllers.yaml</parameters> -->
      <parameters>
        [local-path]/awCombo_simulation/src/descriptions/awcombo_description/config/awcombo.ros2_controllers.yaml</parameters>
    </plugin>
  </gazebo>

</robot>
